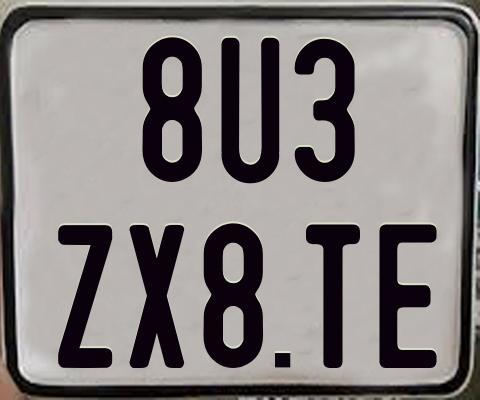3: (291, 36, 356, 180)
8: (141, 34, 203, 182), (202, 220, 262, 371)
E: (379, 221, 440, 367)
T: (305, 224, 363, 369)
U: (218, 38, 280, 183)
X: (128, 224, 185, 372)
Z: (57, 225, 114, 373)
